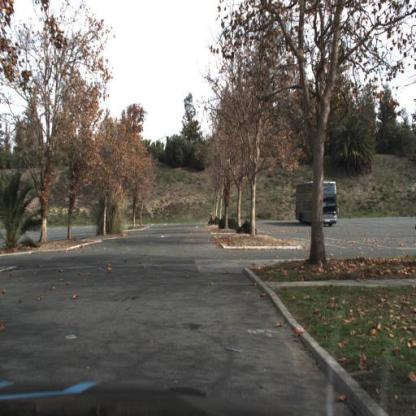truck: (295, 182, 339, 227)
